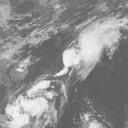cyclone: (28, 37, 98, 109)
